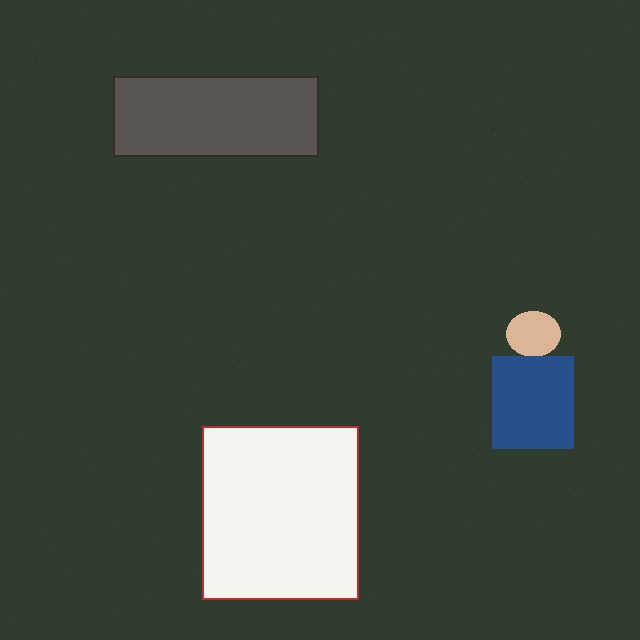book: (202, 426, 358, 599)
concrete_damage: (113, 76, 318, 156)
person: (452, 311, 614, 448)
